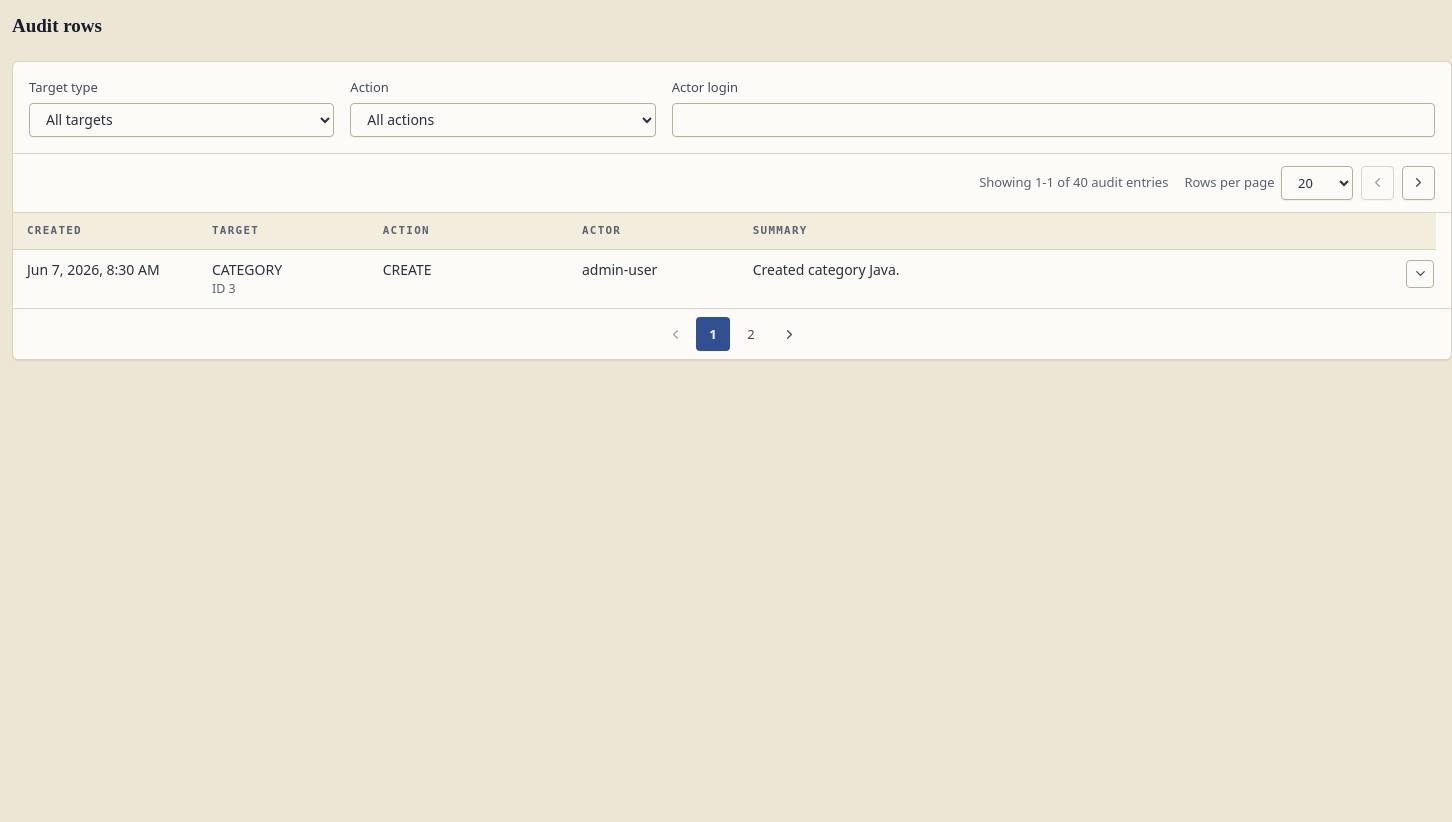
Test: OperatorPage › collapses the expanded row when the audit query changes
Click the button named "Details for audit entry 2". click: (1420, 274)
box: left=1406, top=260, right=1434, bottom=288
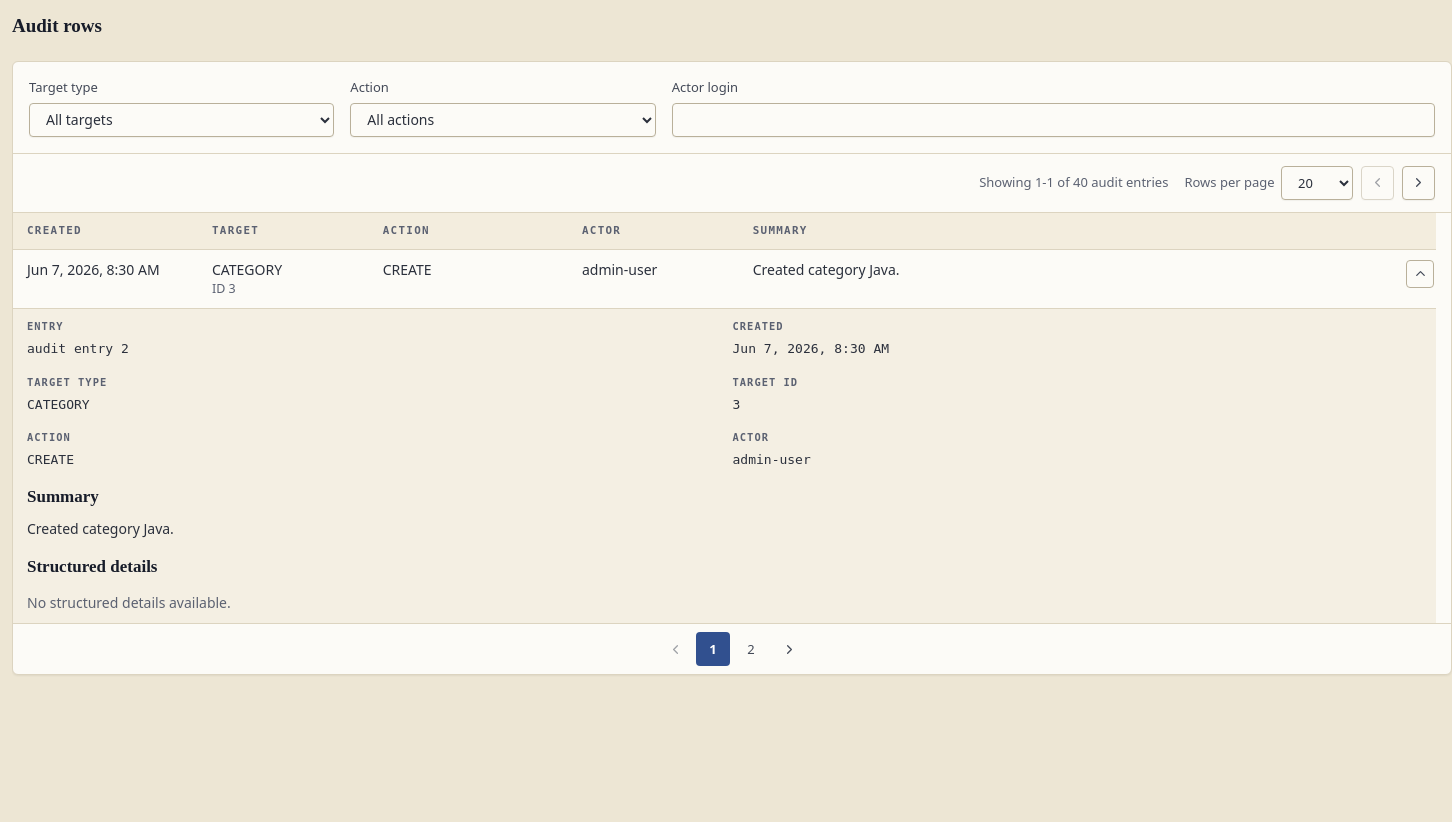
Expected: the row with class "audit-detail-row" is shown, left=13, top=309, right=1436, bottom=623
Click the button named "Next page" next to "Rows per page". click: (1418, 183)
box: left=1402, top=166, right=1435, bottom=200
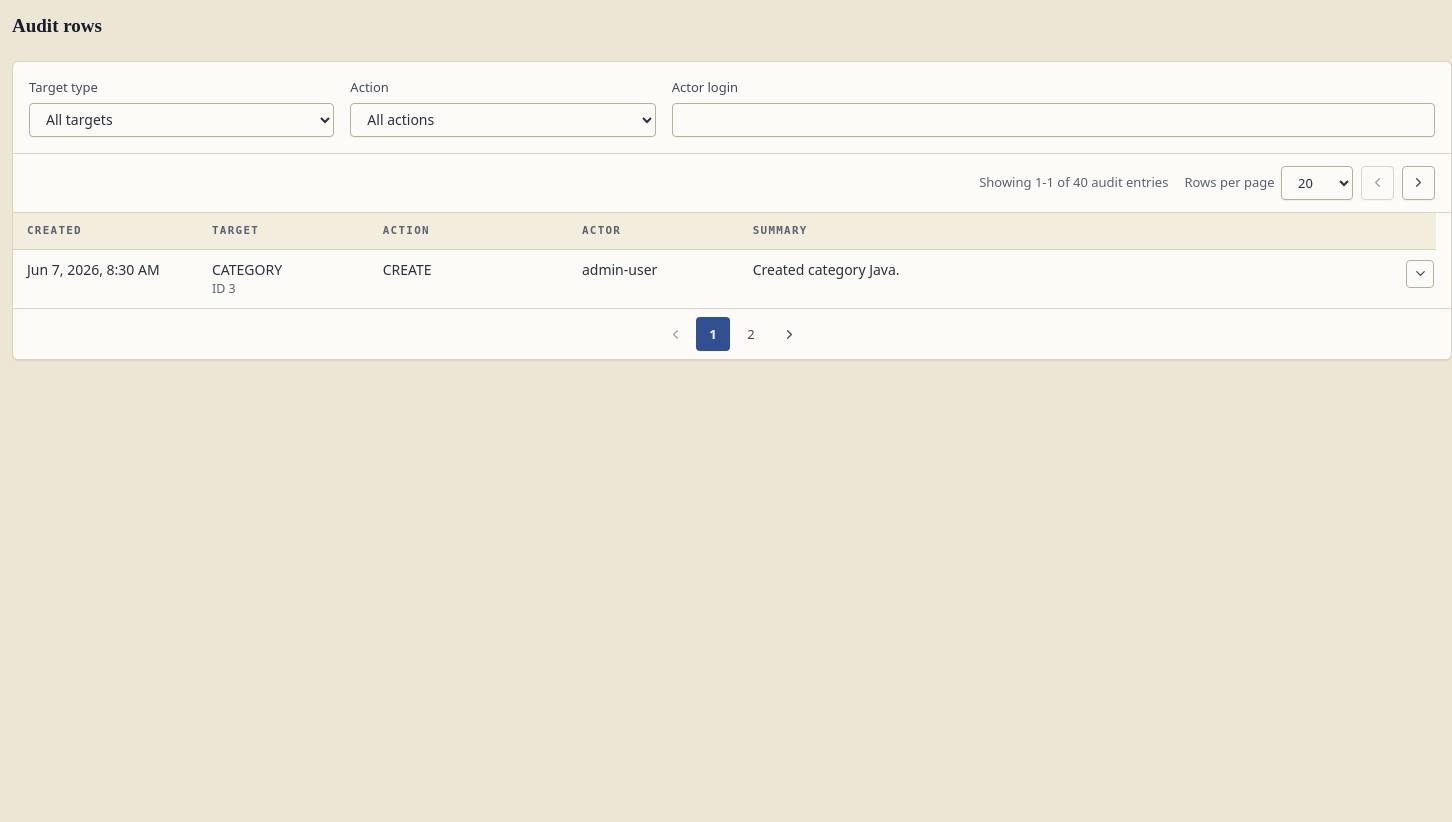
Expected: the row with class "audit-detail-row" is gone
